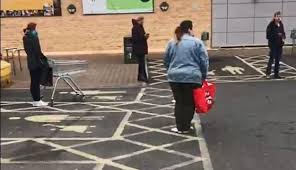Good: (163, 11, 286, 134), (22, 16, 156, 107), (128, 15, 208, 134)
